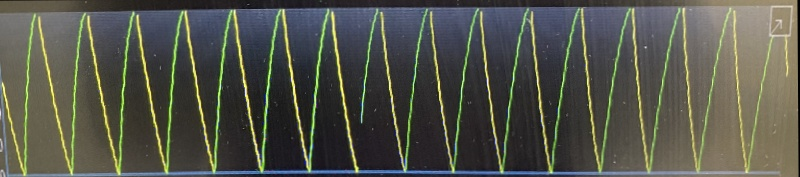normal_volume: (0, 5, 755, 177)
